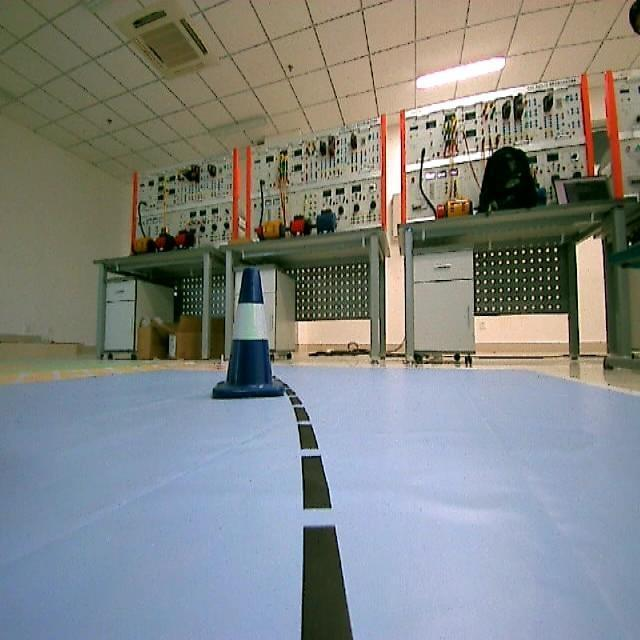obstacle: (205, 261, 286, 404)
